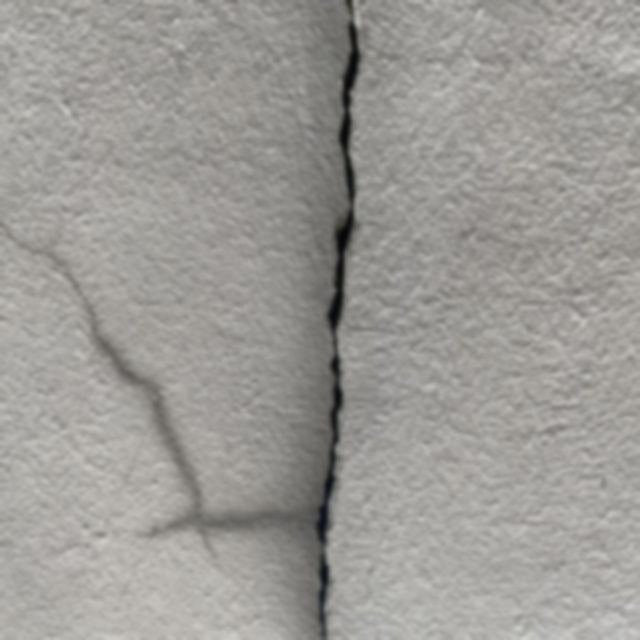SurfaceCrack: (259, 0, 411, 638)
